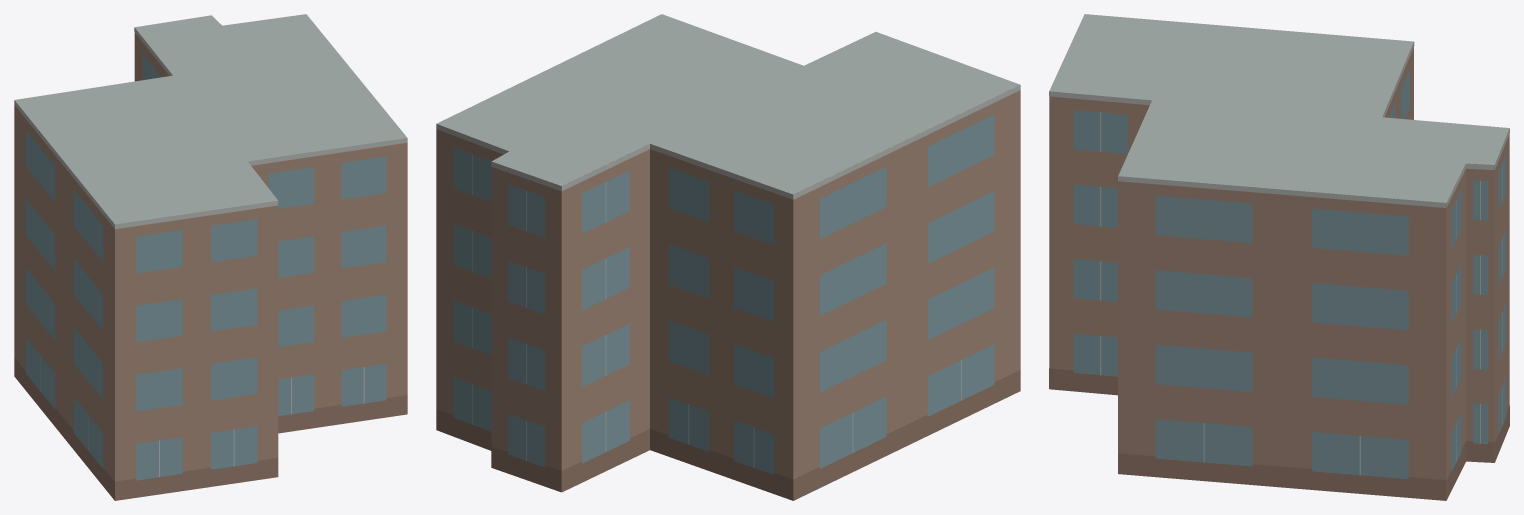
Rendered from survey-upis-32479624.glb.
The picture shows the model from 3 angles, left to right: view 1: azimuth 30°, elevation 25°; view 2: azimuth 150°, elevation 25°; view 3: azimuth 270°, elevation 25°; orthographic projection. The views are drawn at different scales.
Parts seen in each view (by area): view 1: survey-upis-32479624.tmp; view 2: survey-upis-32479624.tmp; view 3: survey-upis-32479624.tmp.
Part boxes in pixels (x1=…): survey-upis-32479624.tmp: x1=14, y1=14, x2=407, y2=500; survey-upis-32479624.tmp: x1=436, y1=14, x2=1020, y2=500; survey-upis-32479624.tmp: x1=1049, y1=14, x2=1509, y2=500.
Bounding box in the file's own units: 19.4 × 14.25 × 19.98.
